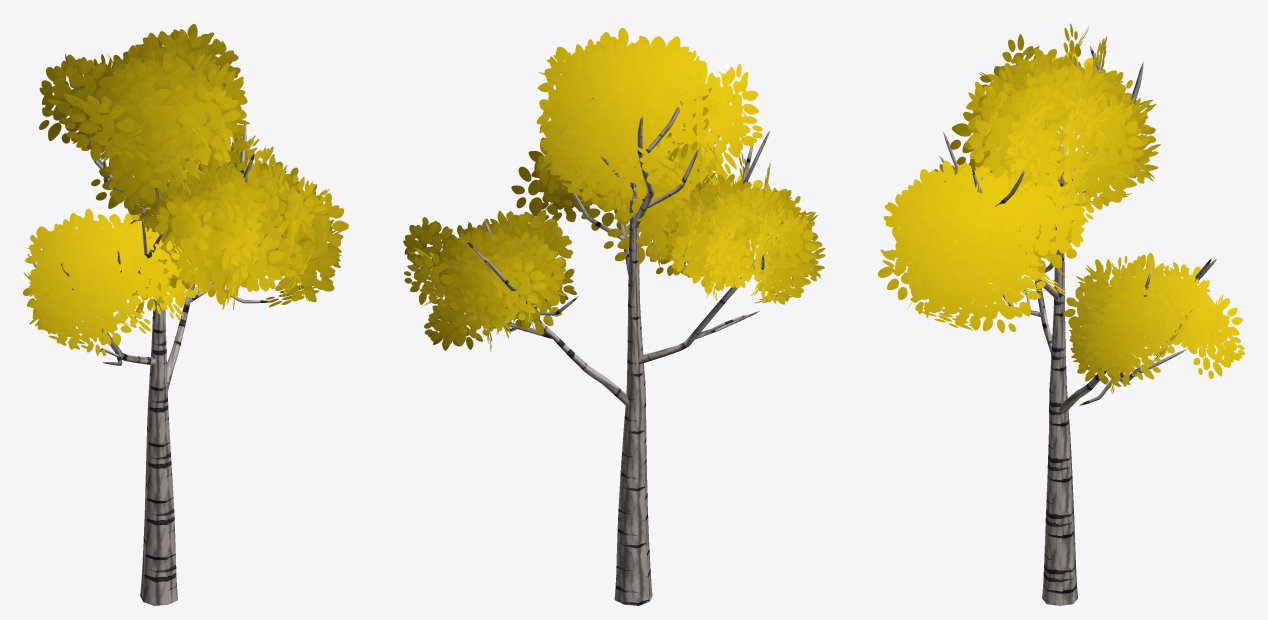
Rendered from BirchTree_5.gltf.
The picture shows the model from 3 angles, left to right: view 1: azimuth 30°, elevation 25°; view 2: azimuth 150°, elevation 25°; view 3: azimuth 270°, elevation 25°; orthographic projection. The views are drawn at different scales.
Parts seen in each view (by area): view 1: BirchTree_5; view 2: BirchTree_5; view 3: BirchTree_5.
Part boxes in pixels (x1=…): BirchTree_5: x1=23, y1=23, x2=348, y2=605; BirchTree_5: x1=403, y1=28, x2=825, y2=605; BirchTree_5: x1=878, y1=23, x2=1244, y2=605.
Size of the model in its own units: 3.58 by 5.52 by 3.51.
2 materials, 2 textured.
